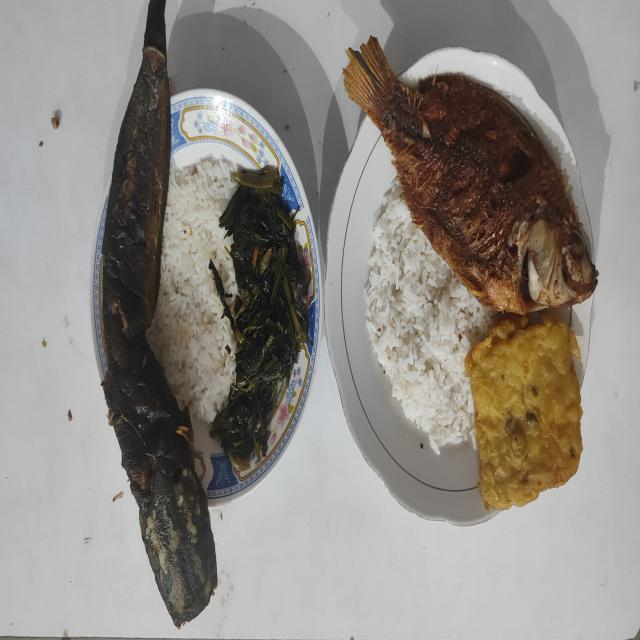ikan_mujair: (343, 39, 598, 314)
nasi_putih: (365, 180, 491, 450), (148, 158, 238, 424)
tumis_kangkung: (210, 166, 314, 476)
